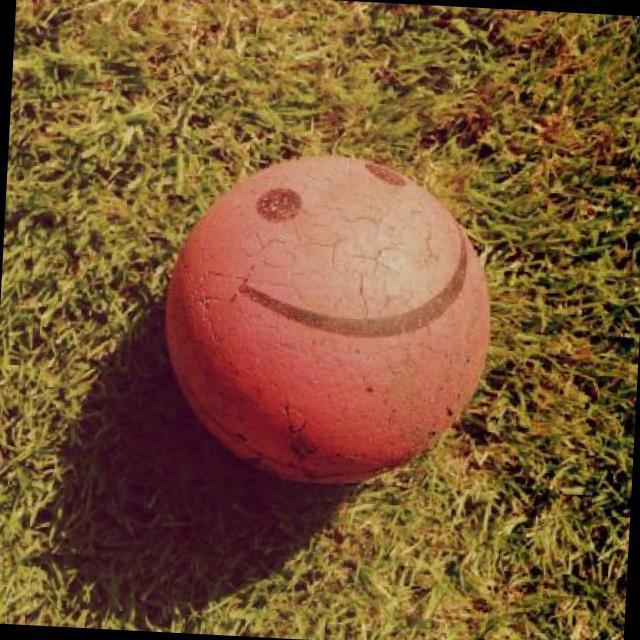-: (164, 136, 595, 497)
